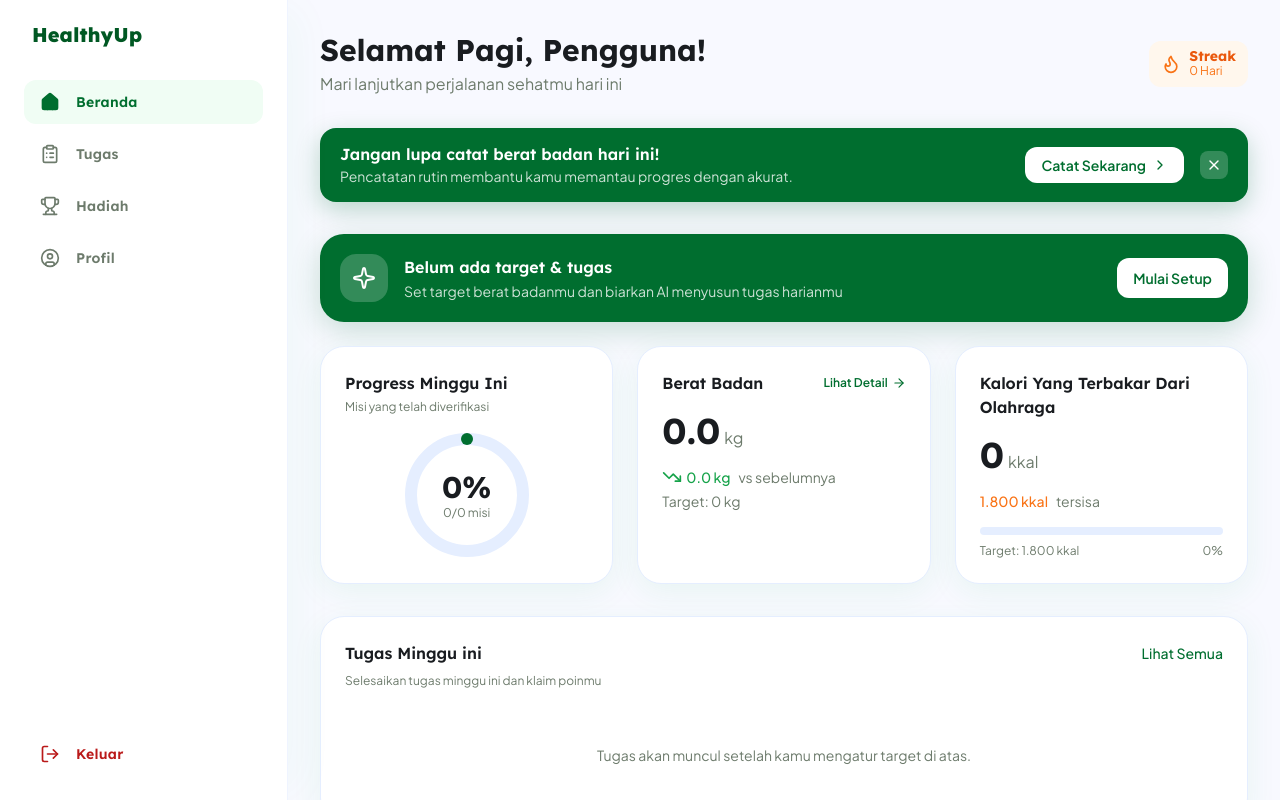
Test: Dashboard Page › tombol Catat Sekarang di banner membuka modal
The image size is (1280, 800).
What coordinates should you click on to do the following:
click the button "Catat Sekarang"
I would click on:
 (1105, 165)
Its box is [1025, 147, 1184, 183].
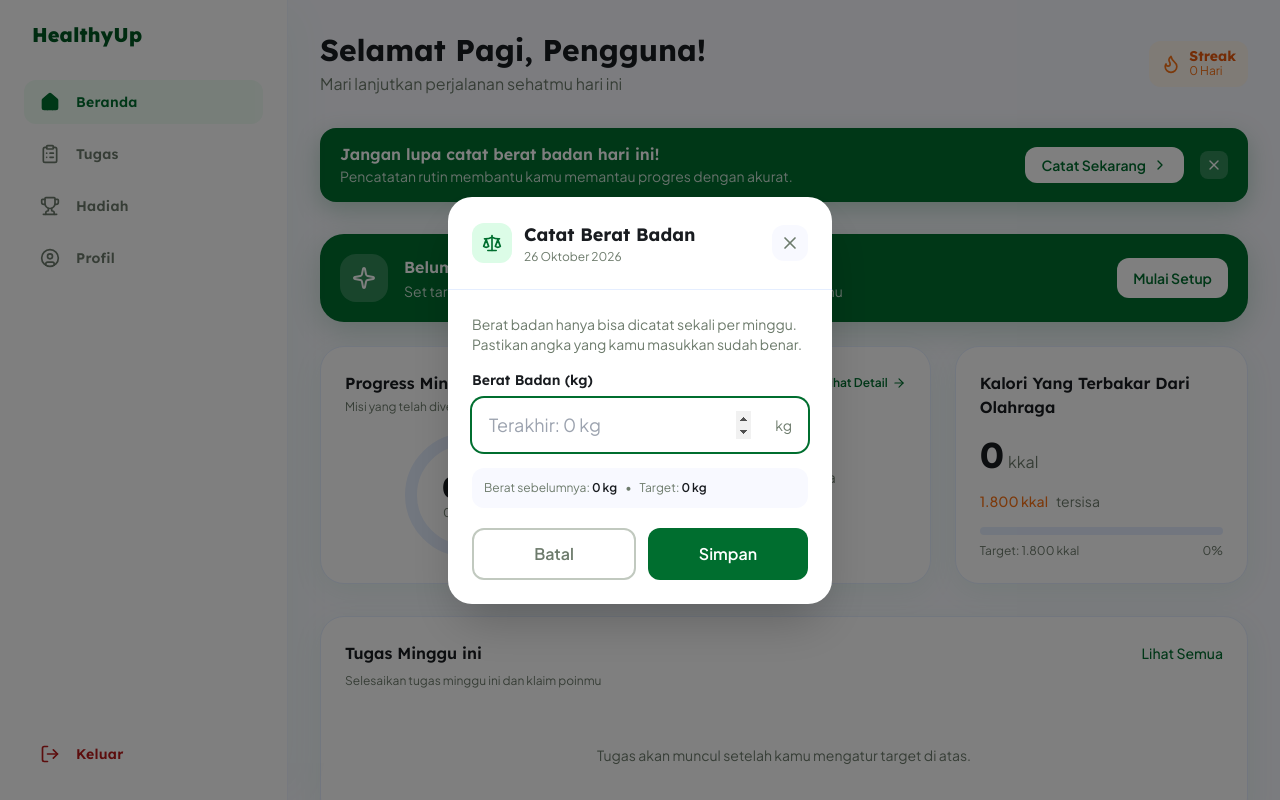
Now the dialog is shown
